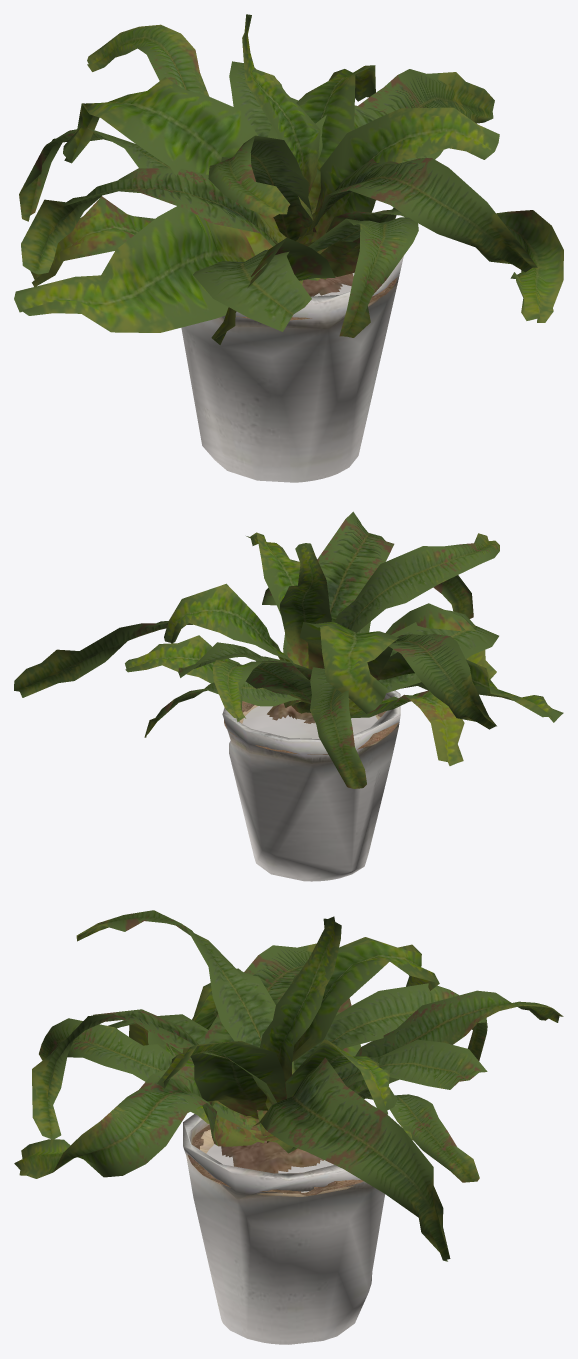
The model's file is doniczka_paproc_2.glb.
3 views of the same model, one above another, from view 1: azimuth 30°, elevation 25°; view 2: azimuth 150°, elevation 25°; view 3: azimuth 270°, elevation 25° (orthographic). The views are drawn at different scales.
Visible parts, largest first — view 1: roslina, doniczka, ziemia; view 2: roslina, doniczka, ziemia; view 3: roslina, doniczka, ziemia.
Boxes of the visible parts, x1=… form: roslina: x1=14, y1=14, x2=563, y2=344; doniczka: x1=181, y1=256, x2=403, y2=482; ziemia: x1=236, y1=273, x2=397, y2=320; roslina: x1=14, y1=511, x2=563, y2=788; doniczka: x1=222, y1=690, x2=400, y2=881; ziemia: x1=224, y1=699, x2=398, y2=754; roslina: x1=14, y1=910, x2=563, y2=1261; doniczka: x1=183, y1=1114, x2=385, y2=1344; ziemia: x1=187, y1=1124, x2=363, y2=1195.
Bounding box in the file's own units: 0.8743 × 0.6039 × 0.7652.
Materials: 2 (2 with a texture image).
